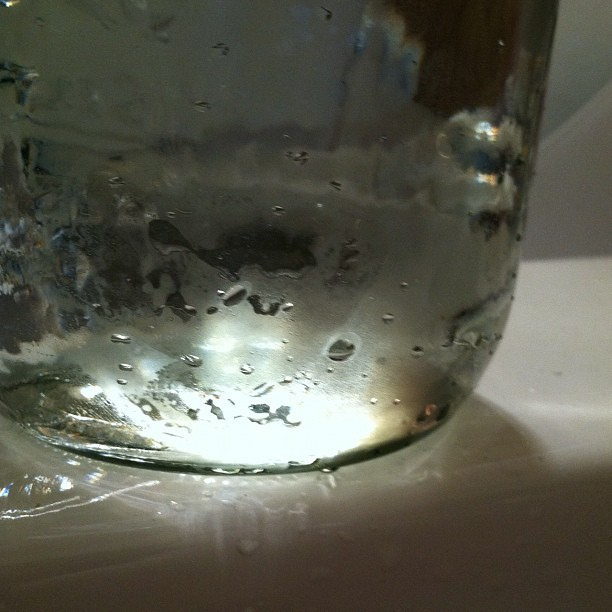glass of water: (4, 3, 545, 476)
